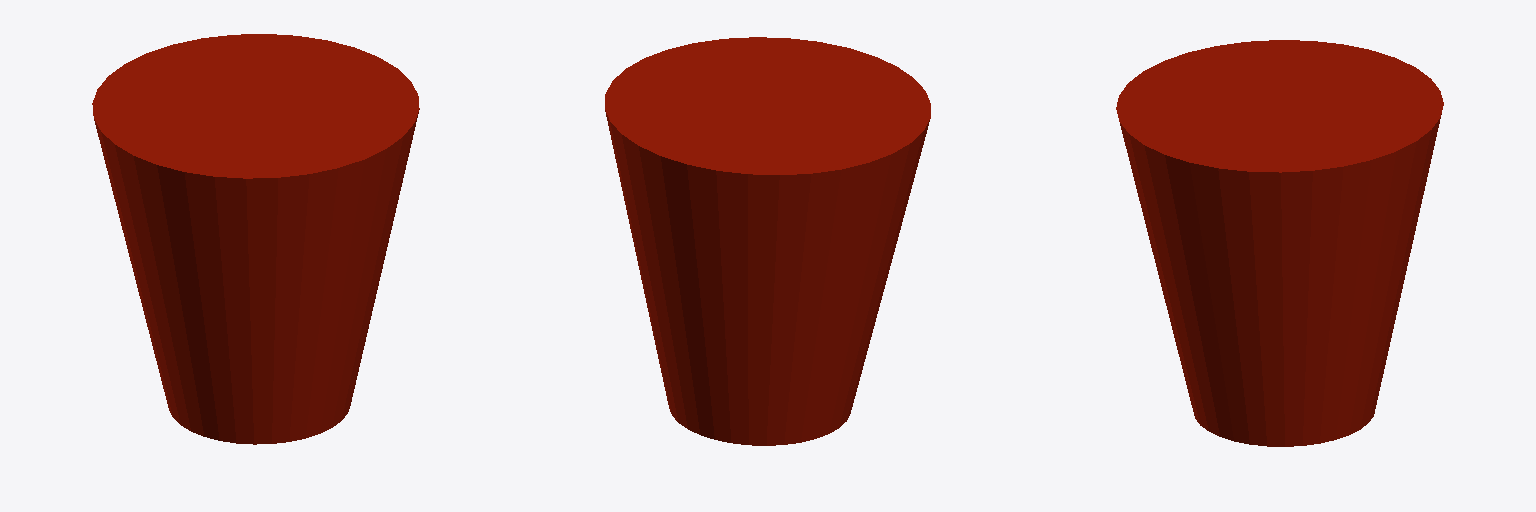
The model's file is gorshok.obj.
3 views of the same model, side by side, from view 1: azimuth 30°, elevation 25°; view 2: azimuth 150°, elevation 25°; view 3: azimuth 270°, elevation 25° (orthographic).
Parts seen in each view (by area): view 1: Cylinder; view 2: Cylinder; view 3: Cylinder.
Part boxes in pixels (x1,y1,x2,y2): Cylinder: (92,34,419,444); Cylinder: (605,37,930,445); Cylinder: (1116,40,1443,446).
Bounding box in the file's own units: 0.9793 × 1.01 × 0.9794.